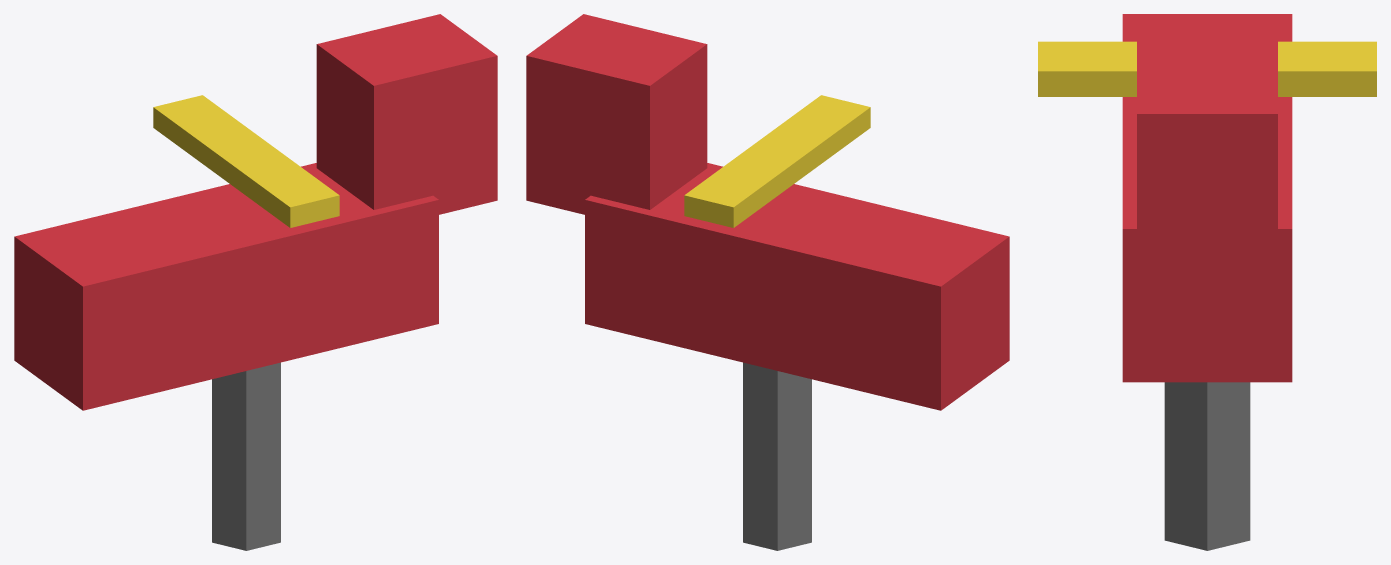
File: site_play5.fbx
3 views of the same model, side by side, from view 1: azimuth 30°, elevation 25°; view 2: azimuth 150°, elevation 25°; view 3: azimuth 270°, elevation 25° (orthographic). The views are drawn at different scales.
Visible parts, largest first — view 1: a3004/0/site_play5; view 2: a3004/0/site_play5; view 3: a3004/0/site_play5.
Boxes of the visible parts, x1,y1,x2,y2 form: a3004/0/site_play5: (14,14,497,550); a3004/0/site_play5: (526,14,1009,550); a3004/0/site_play5: (1038,14,1376,550).
Bounding box in the file's own units: 0.85 × 0.86 × 0.48.
